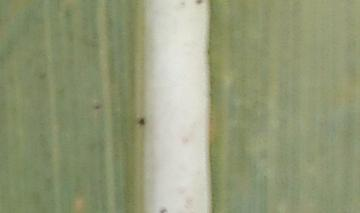tarspot: (138, 117, 146, 126), (93, 103, 101, 111), (159, 208, 168, 213), (194, 1, 204, 5)
